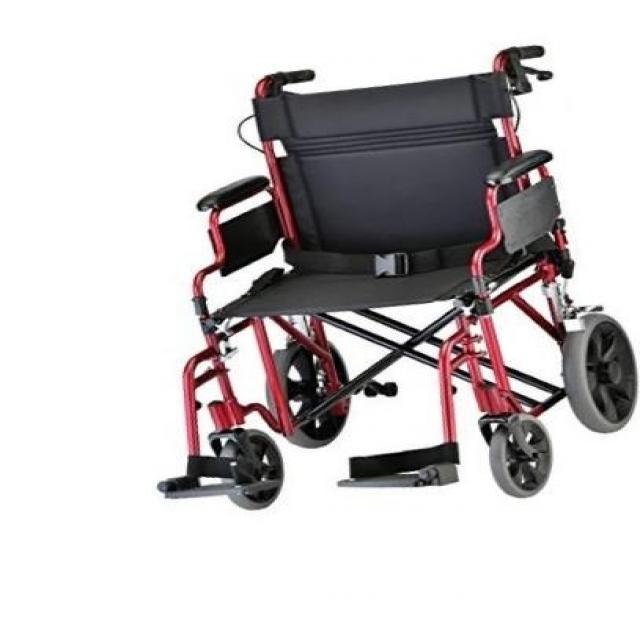wheelchair: (143, 28, 640, 537)
